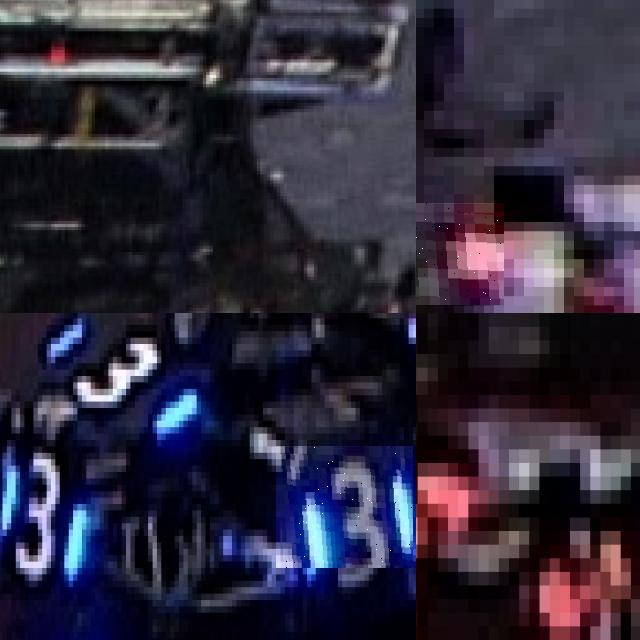B3: (46, 313, 192, 446), (276, 446, 413, 568), (0, 446, 82, 574)
R3: (416, 203, 504, 305)
